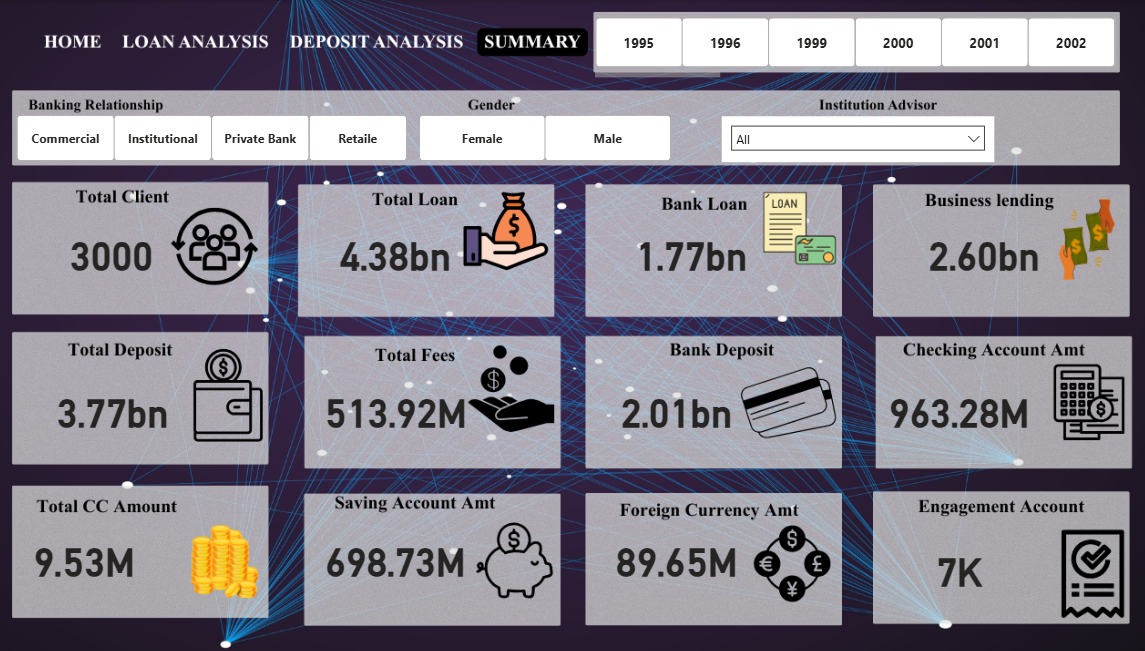

The page's visual inventory and layout, read from the dashboard file:
{"tool":"powerbi","page":{"name":"Summary","canvas":[1280,720],"ordinal":3},"visuals":[{"type":"advancedSlicerVisual","fields":{"Values":["banking_case banking.Year of joining"]},"box":[667,14,585.9,78.2],"z":0},{"type":"advancedSlicerVisual","fields":{"Values":["banking_case banking.BRId"]},"box":[31.6,120.8,441.9,61.7],"z":1000},{"type":"advancedSlicerVisual","fields":{"Values":["banking_case banking.GenderId"]},"box":[473.4,120.8,288.2,61.7],"z":2000},{"type":"slicer","fields":{"Values":["banking_case banking.IAId"]},"box":[811,127.6,299.1,50.8],"z":3000},{"type":"card","fields":{"Values":["banking_case banking.Total Loan"]},"box":[341.7,242.9,222.3,68.6],"z":4000},{"type":"card","fields":{"Values":["CountNonNull(banking_case banking.Name)"]},"box":[30.2,242.9,222.3,68.6],"z":5000},{"type":"card","fields":{"Values":["banking_case banking.Total Deposit"]},"box":[31.6,415.8,222.3,68.6],"z":6000},{"type":"card","fields":{"Values":["Sum(banking_case banking.Checking Accounts)"]},"box":[960.6,415.8,222.3,68.6],"z":7000},{"type":"card","fields":{"Values":["Sum(banking_case banking.Saving Accounts)"]},"box":[341.7,579.1,222.3,68.6],"z":8000},{"type":"card","fields":{"Values":["Sum(banking_case banking.Business Lending)"]},"box":[988,242.9,222.3,68.6],"z":9000},{"type":"card","fields":{"Values":["Sum(banking_case banking.Bank Loans)"]},"box":[666.9,242.9,222.3,68.6],"z":10000},{"type":"card","fields":{"Values":["Sum(banking_case banking.Credit Card Balance)"]},"box":[0,579.1,222.3,68.6],"z":11000},{"type":"card","fields":{"Values":["Sum(banking_case banking.Bank Deposits)"]},"box":[650.4,415.8,222.3,68.6],"z":12000},{"type":"card","fields":{"Values":["Sum(banking_case banking.Foreign Currency Account)"]},"box":[650.4,579.1,222.3,68.6],"z":13000},{"type":"card","fields":{"Values":["Sum(banking_case banking.Estimated Income)"]},"box":[341.7,415.8,222.3,68.6],"z":14000},{"type":"card","fields":{"Values":["Sum(banking_case banking.Risk Weighting)"]},"box":[960.6,590.1,222.3,68.6],"z":15000}]}

Visuals, with their boxes in screenshot pixels (x1, y1, x2, y2), scaled from the page's 1280x720 canvas onto the 1145x651 screenshot:
advancedSlicerVisual - banking_case banking.Year of joining: [597,13,1121,83]
advancedSlicerVisual - banking_case banking.BRId: [28,109,424,165]
advancedSlicerVisual - banking_case banking.GenderId: [423,109,681,165]
slicer - banking_case banking.IAId: [725,115,993,161]
card - banking_case banking.Total Loan: [306,220,505,282]
card - CountNonNull(banking_case banking.Name): [27,220,226,282]
card - banking_case banking.Total Deposit: [28,376,227,438]
card - Sum(banking_case banking.Checking Accounts): [859,376,1058,438]
card - Sum(banking_case banking.Saving Accounts): [306,524,505,586]
card - Sum(banking_case banking.Business Lending): [884,220,1083,282]
card - Sum(banking_case banking.Bank Loans): [597,220,795,282]
card - Sum(banking_case banking.Credit Card Balance): [0,524,199,586]
card - Sum(banking_case banking.Bank Deposits): [582,376,781,438]
card - Sum(banking_case banking.Foreign Currency Account): [582,524,781,586]
card - Sum(banking_case banking.Estimated Income): [306,376,505,438]
card - Sum(banking_case banking.Risk Weighting): [859,534,1058,596]
